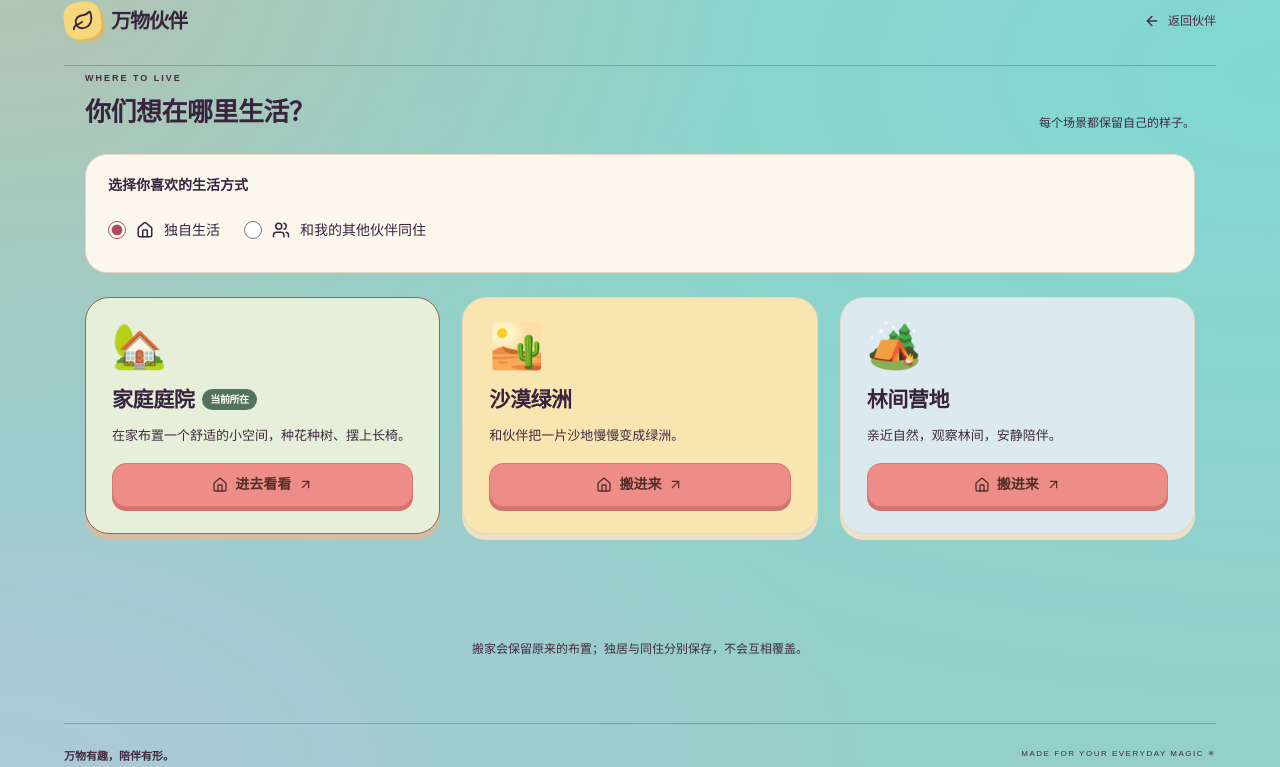
Test: keeps a successful membership when moving fails, without retrying the move
Click the radio button labelled "和我的其他伙伴同住". click: click(253, 230)
box: [244, 221, 262, 239]
(page scrolled)
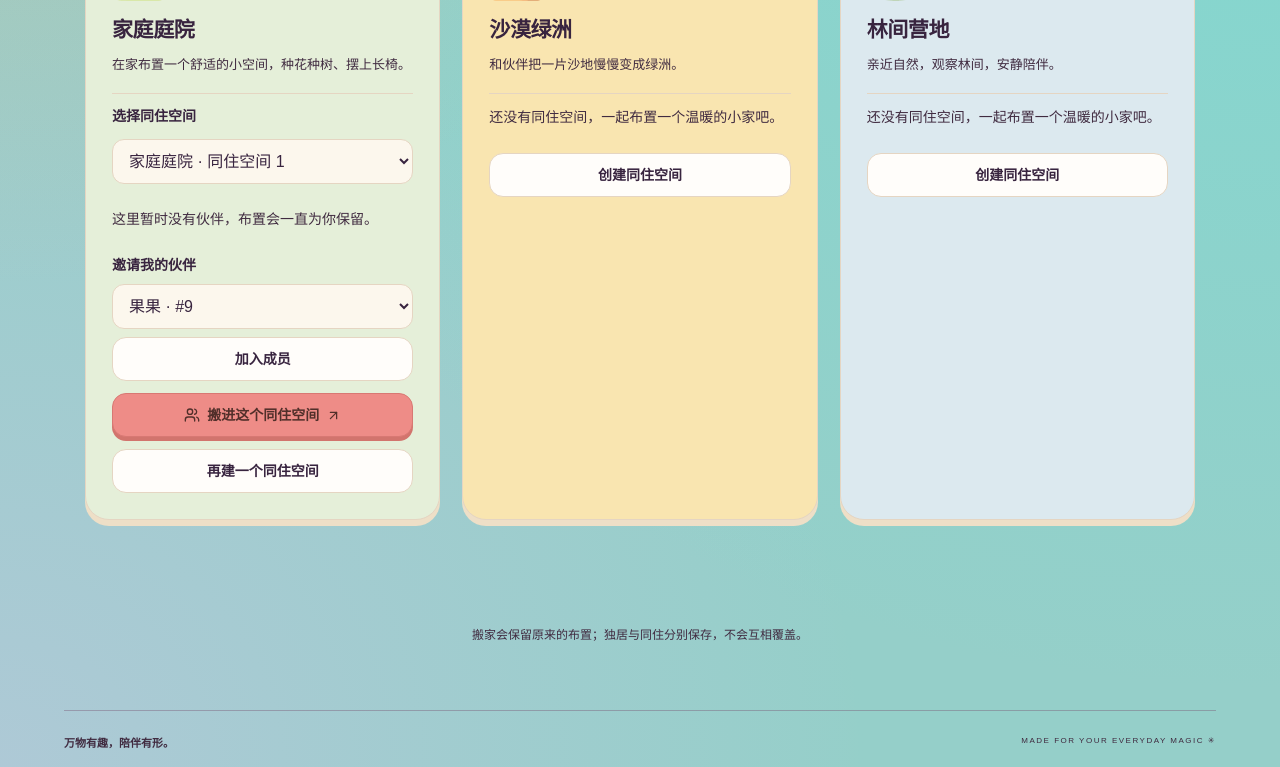
Click the button "搬进这个同住空间". click: click(263, 416)
box: [112, 394, 413, 438]
(page scrolled)
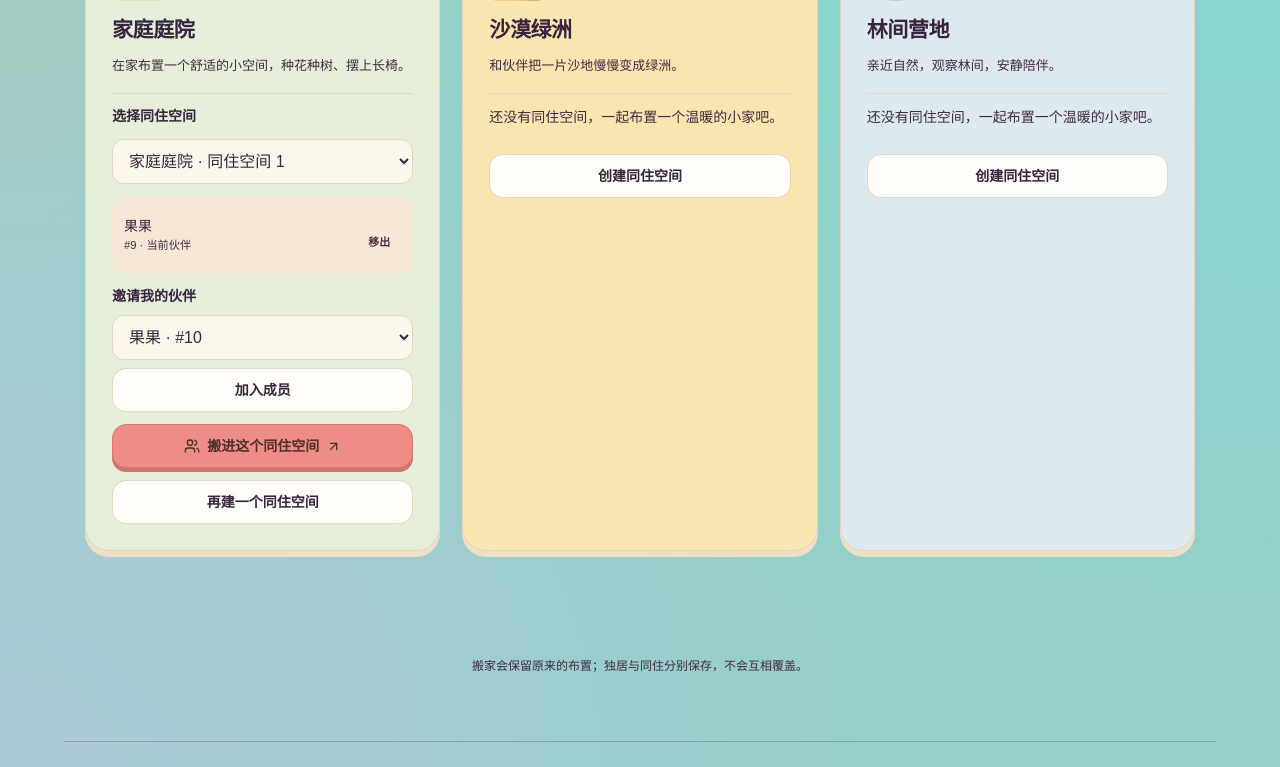
Expected: the button with aria-label "移出果果 #9" is shown, [357, 220, 401, 264]
